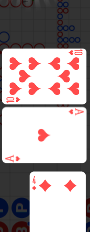10H: (66, 50, 83, 57)
4D: (30, 175, 37, 192)
AH: (66, 108, 84, 117)
